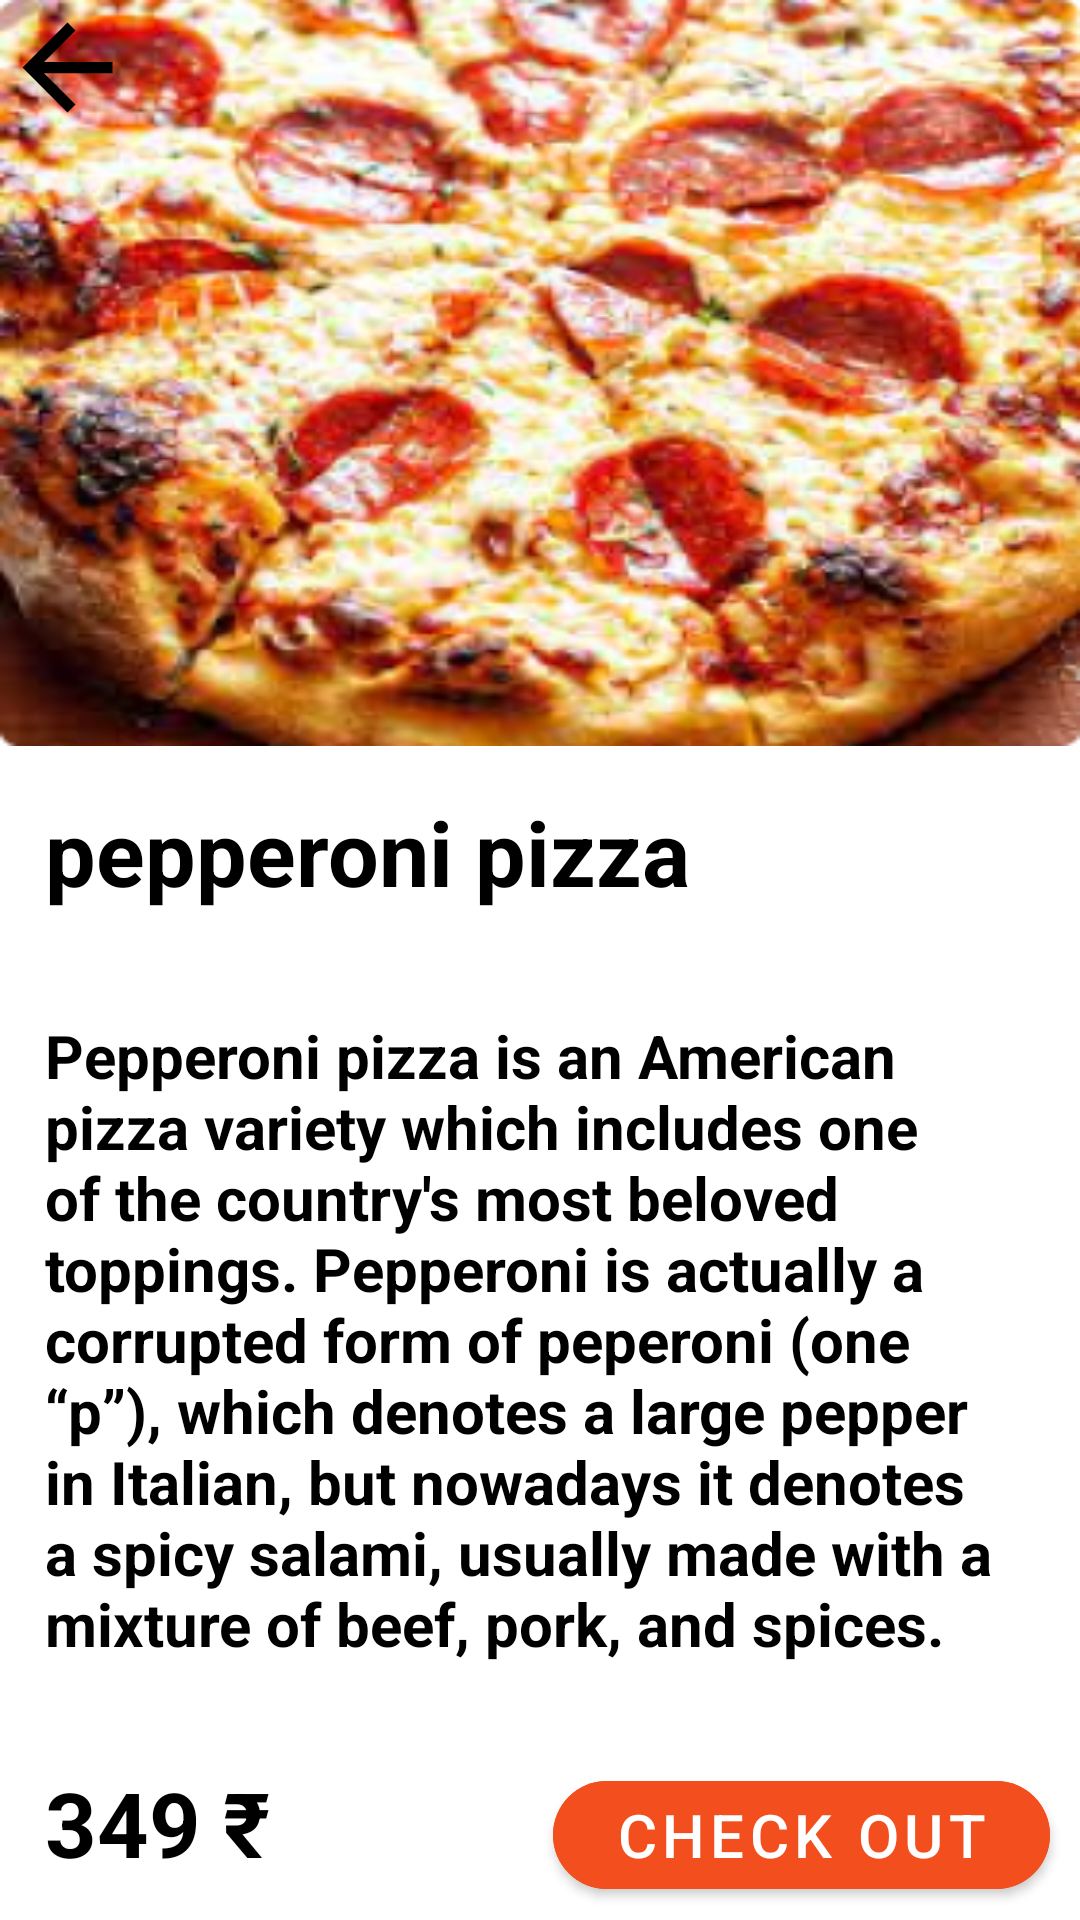

Where to tap for icons on this 1080x1920 app screen, as (x,y):
back: (67,67)
